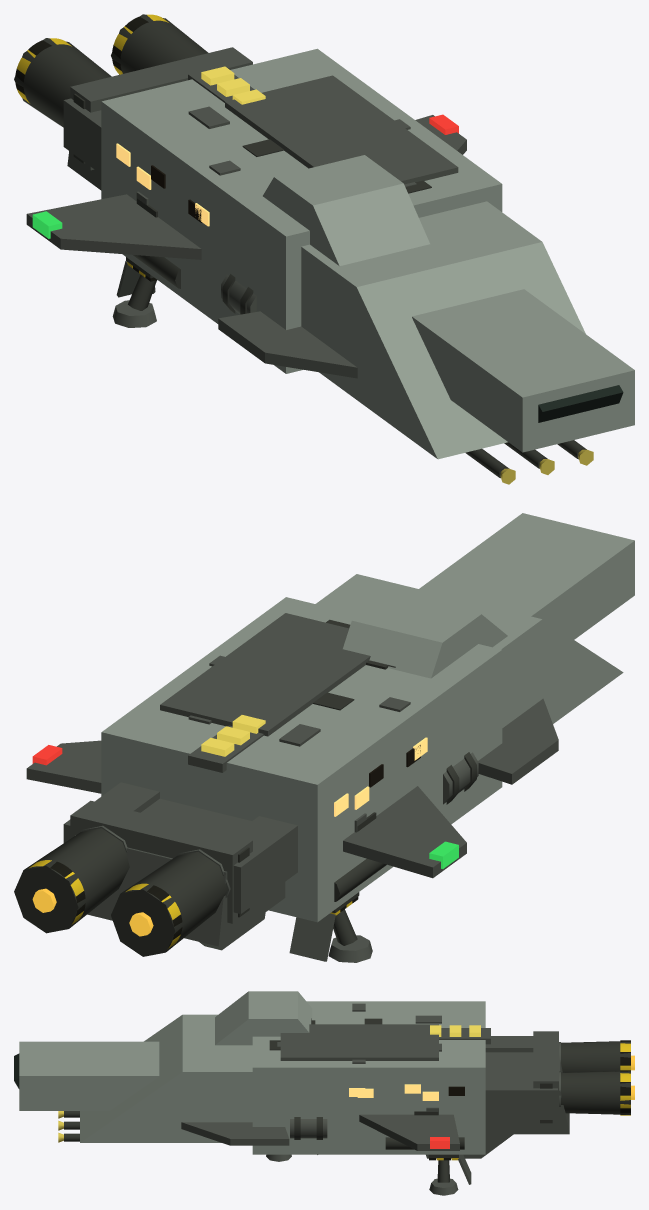
File: courier-l(1).glb
The picture shows the model from 3 angles, top to bottom: view 1: azimuth 30°, elevation 25°; view 2: azimuth 150°, elevation 25°; view 3: azimuth 270°, elevation 25°; orthographic projection. The views are drawn at different scales.
Visible parts, largest first — view 1: hullMain, hullForebody, hullNose, accentStripe, canopyFairing, engineHousing (×2), wingletLeft, canardLeft, engineBayExtension, tailBoom0, cockpitGlass, gearFoot (+1 smaller); view 2: hullMain, hullNose, engineHousing (×2), accentStripe, hullForebody, canopyFairing, wingletLeft, engineBayExtension, hullTailWedge, tailBoom0, canardLeft, wingletRight (+6 smaller); view 3: hullMain, hullForebody, hullNose, accentStripe, engineHousing (×2), canopyFairing, tailBoom1, hullTailWedge, wingletRight, canardRight, engineBayExtension, tailBoom0 (+5 smaller).
Boxes of the visible parts, <box> form: hullMain: <box>101,48,502,373</box>; hullForebody: <box>301,201,585,459</box>; hullNose: <box>412,289,634,452</box>; accentStripe: <box>225,75,458,184</box>; canopyFairing: <box>263,155,429,266</box>; engineHousing (×2): <box>14,14,208,127</box>; wingletLeft: <box>26,194,201,259</box>; canardLeft: <box>218,311,357,378</box>; engineBayExtension: <box>70,47,252,170</box>; tailBoom0: <box>63,98,101,173</box>; cockpitGlass: <box>538,385,623,422</box>; gearFoot: <box>112,300,156,327</box>; hullMain: <box>101,597,502,922</box>; hullNose: <box>419,513,634,639</box>; engineHousing (×2): <box>14,828,227,956</box>; accentStripe: <box>160,613,370,736</box>; hullForebody: <box>315,574,623,727</box>; canopyFairing: <box>343,592,507,678</box>; wingletLeft: <box>343,786,466,878</box>; engineBayExtension: <box>70,800,252,923</box>; hullTailWedge: <box>75,798,285,946</box>; tailBoom0: <box>233,816,297,913</box>; canardLeft: <box>478,698,558,784</box>; wingletRight: <box>26,740,101,793</box>; hullMain: <box>252,1001,485,1154</box>; hullForebody: <box>80,1014,252,1142</box>; hullNose: <box>19,1041,159,1110</box>; accentStripe: <box>280,1024,438,1060</box>; engineHousing (×2): <box>561,1041,630,1114</box>; canopyFairing: <box>215,991,312,1045</box>; tailBoom1: <box>485,1078,557,1119</box>; hullTailWedge: <box>485,1052,569,1134</box>; wingletRight: <box>359,1114,459,1150</box>; canardRight: <box>181,1122,289,1145</box>; engineBayExtension: <box>533,1031,558,1124</box>; tailBoom0: <box>485,1036,533,1052</box>.
Size of the model in its own units: 2.37 by 1.22 by 4.93.
